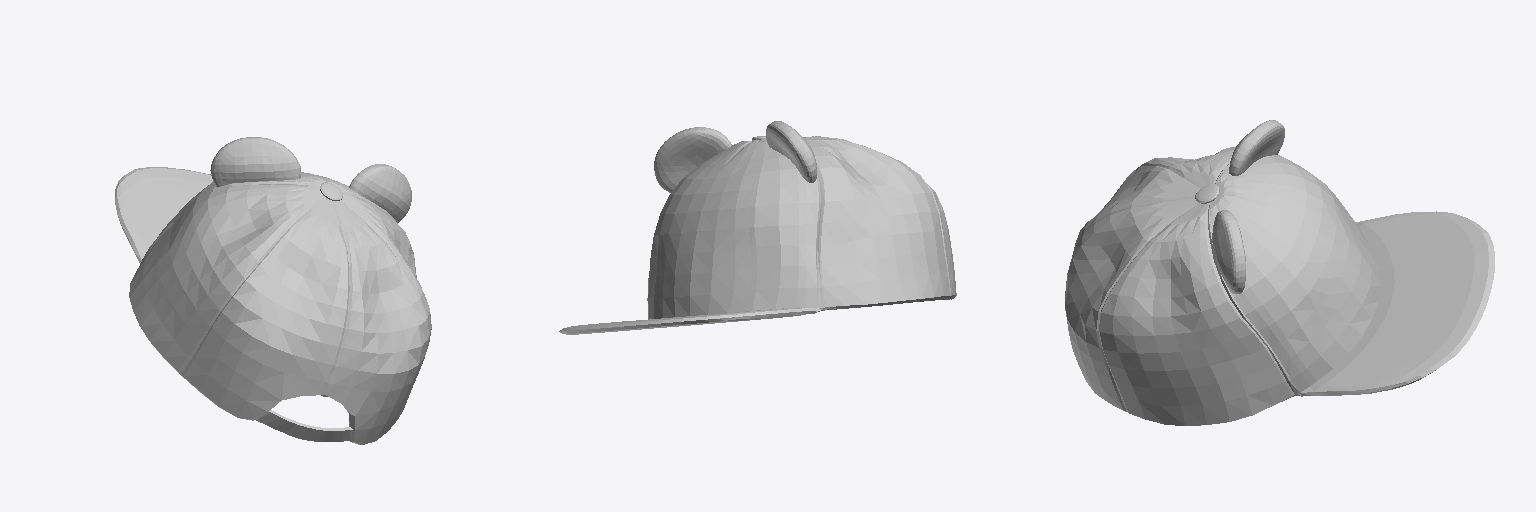
File: garfield hat.obj
3 views of the same model, side by side, from view 1: azimuth 30°, elevation 25°; view 2: azimuth 150°, elevation 25°; view 3: azimuth 270°, elevation 25° (orthographic).
Parts seen in each view (by area): view 1: garfield_hat; view 2: garfield_hat; view 3: garfield_hat.
Boxes of the visible parts, <box> form: garfield_hat: <box>115,137,431,444</box>; garfield_hat: <box>559,121,956,334</box>; garfield_hat: <box>1065,120,1494,425</box>.
Size of the model in its own units: 1.8 by 1.59 by 2.46.